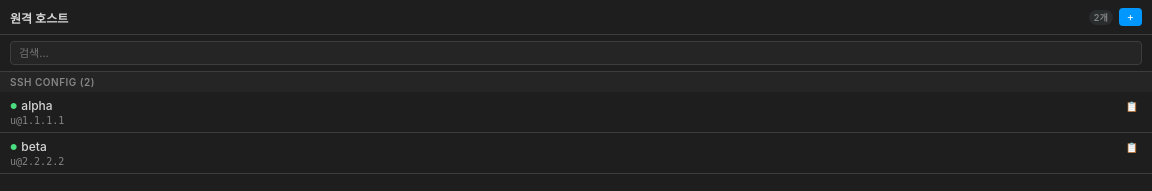
Test: RemotePanel › 검색창에서 ESC 입력 시 검색어가 초기화된다
Expected: the text "alpha" is shown, [21,98,53,113]
Type "alpha" into the field with placeholder "검색..." at (576, 53), box [10,41,1142,65]
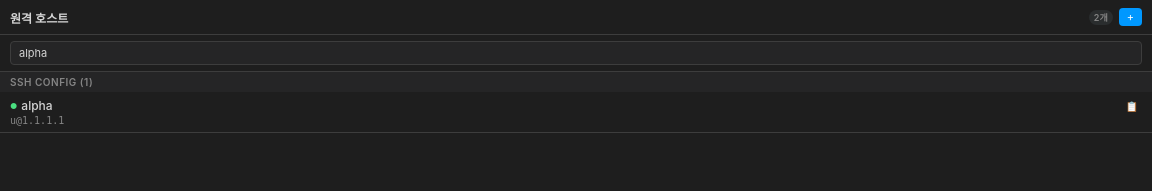
Expected: the text "beta" is gone
Press Escape in the field with placeholder "검색...", box [10,41,1142,65]
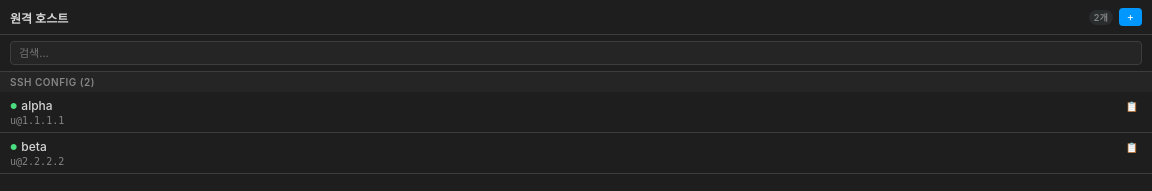
Expected: the text "beta" is shown, [21,139,47,154]
